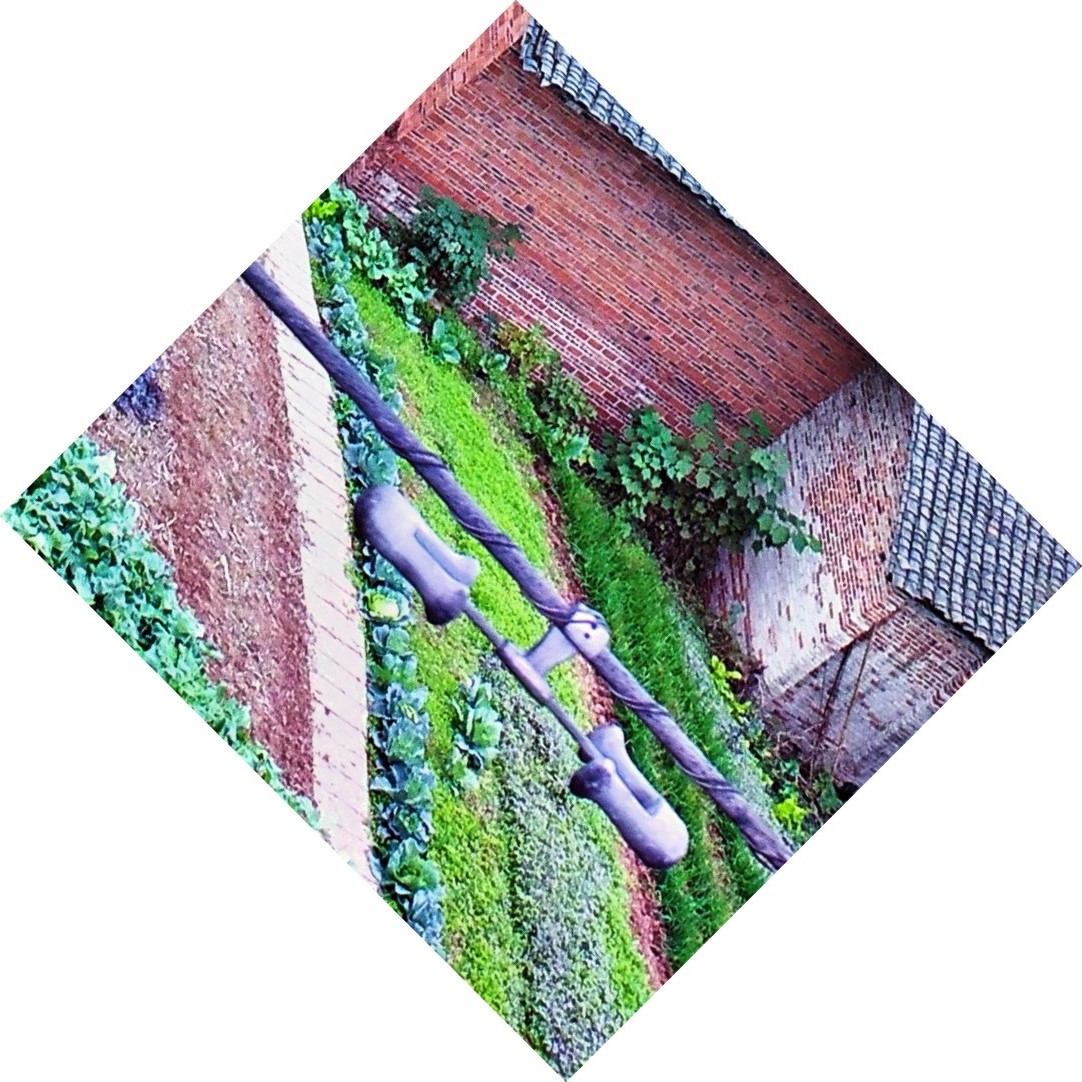Shockproof hammer: (339, 447, 714, 887)
